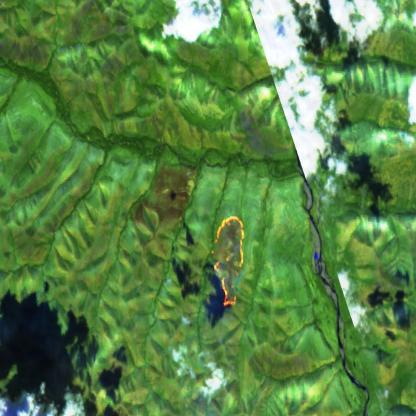fire: (204, 208, 249, 318)
